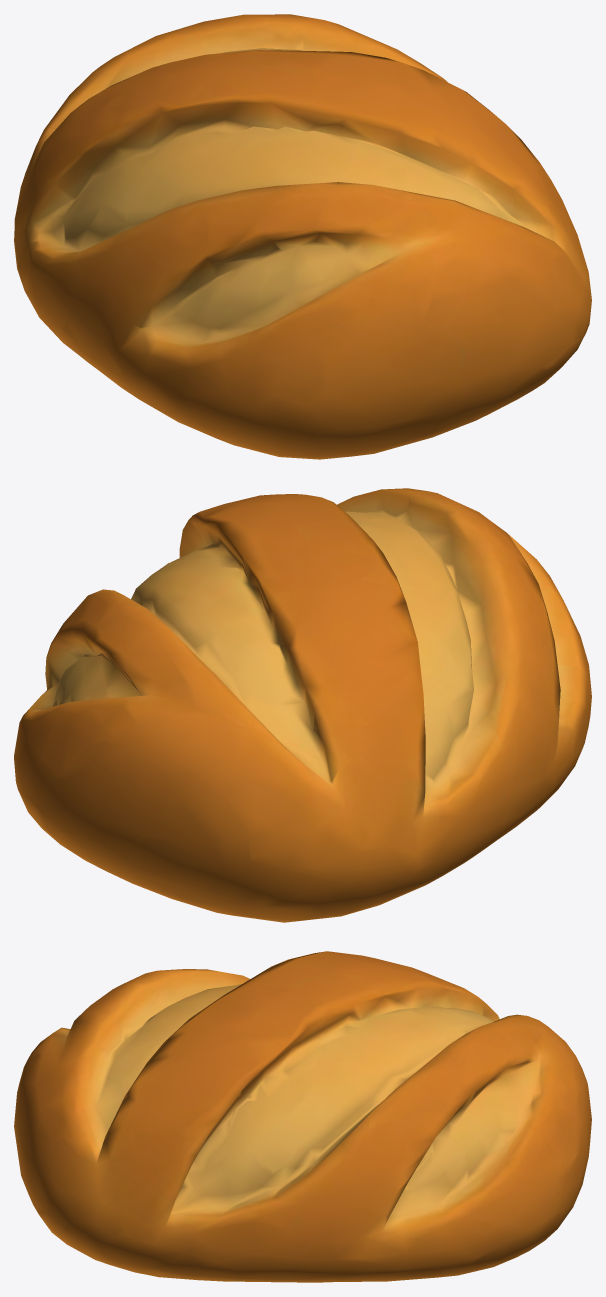
File: hat-bread.glb
3 renders of one model, top to bottom at view 1: azimuth 30°, elevation 25°; view 2: azimuth 150°, elevation 25°; view 3: azimuth 270°, elevation 25°, orthographic. The views are drawn at different scales.
Visible parts, largest first — view 1: tripo_node_5cb58f5e-30af-47e8-96e8-0b68703d3994; view 2: tripo_node_5cb58f5e-30af-47e8-96e8-0b68703d3994; view 3: tripo_node_5cb58f5e-30af-47e8-96e8-0b68703d3994.
Part boxes in pixels (x1,y1,x2,y2): tripo_node_5cb58f5e-30af-47e8-96e8-0b68703d3994: (14, 14, 591, 459); tripo_node_5cb58f5e-30af-47e8-96e8-0b68703d3994: (14, 488, 591, 922); tripo_node_5cb58f5e-30af-47e8-96e8-0b68703d3994: (14, 951, 591, 1282).
Size of the model in its own units: 0.7889 by 0.5007 by 1.
1 material, 1 textured.
